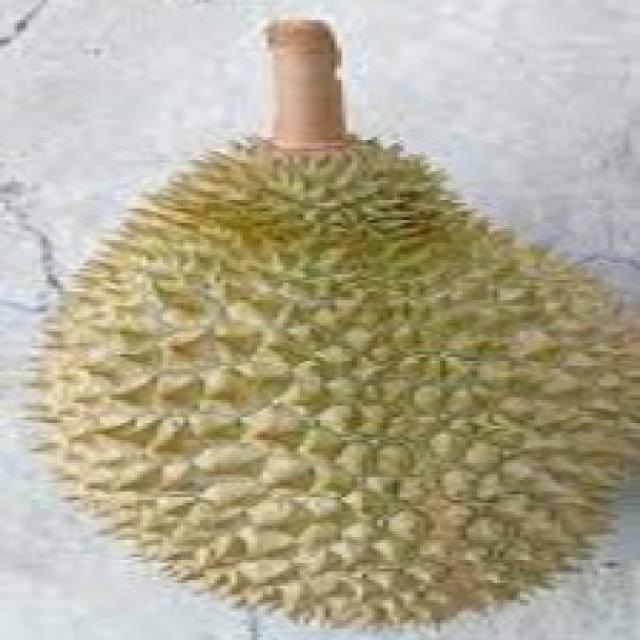d2: (55, 25, 629, 614)
